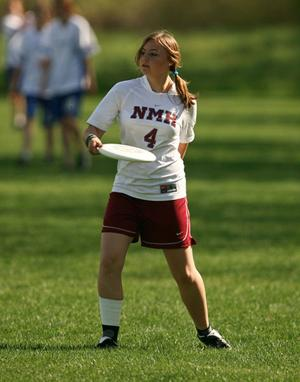person: (82, 31, 235, 351)
